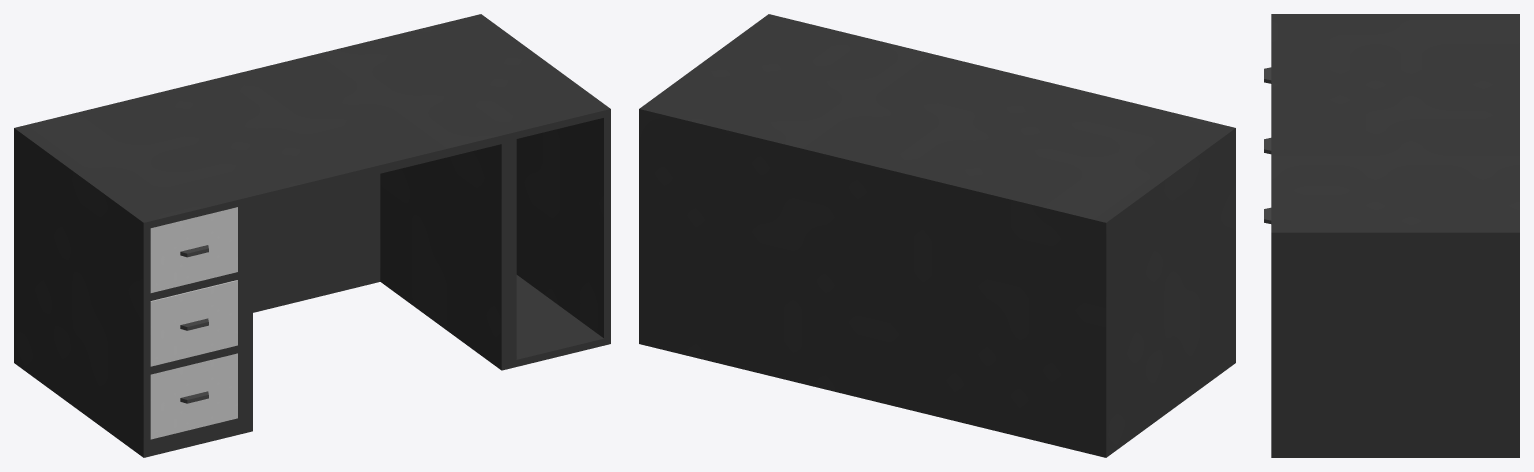
Rendered from Desk_02_03.fbx.
3 renders of one model, left to right at view 1: azimuth 30°, elevation 25°; view 2: azimuth 150°, elevation 25°; view 3: azimuth 270°, elevation 25°, orthographic. The views are drawn at different scales.
Parts seen in each view (by area): view 1: Desk_02_03, Desk_02_03_Drawer.001, Desk_02_03_Drawer.002, Desk_02_03_Drawer; view 2: Desk_02_03; view 3: Desk_02_03.
Boxes of the visible parts, <box> form: Desk_02_03: <box>14,14,610,457</box>; Desk_02_03_Drawer.001: <box>150,280,237,366</box>; Desk_02_03_Drawer.002: <box>150,353,237,439</box>; Desk_02_03_Drawer: <box>150,207,237,292</box>; Desk_02_03: <box>639,14,1235,457</box>; Desk_02_03: <box>1271,14,1519,457</box>.
Bounding box in the file's own units: 1.69 × 0.8109 × 0.8343.
